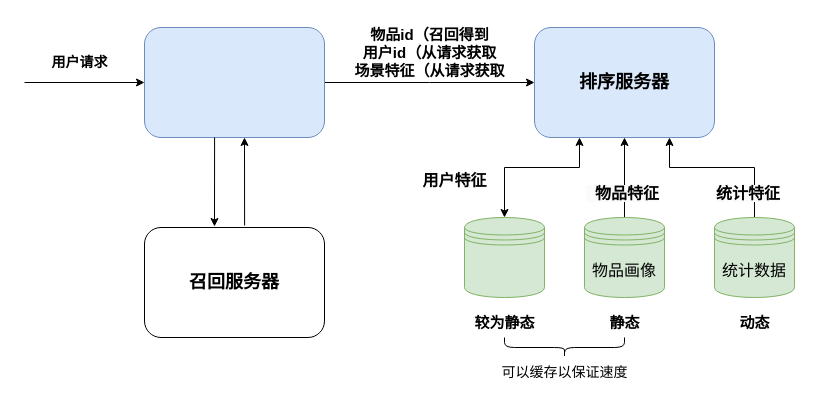
The diagram is 832 pixels wide and 404 high, and some of its shapes have lost their labels. Here are the shapes that lost their labels. From the top down, the centre of each, then its label:
point 234,82: 主服务器
point 504,257: 用户画像
